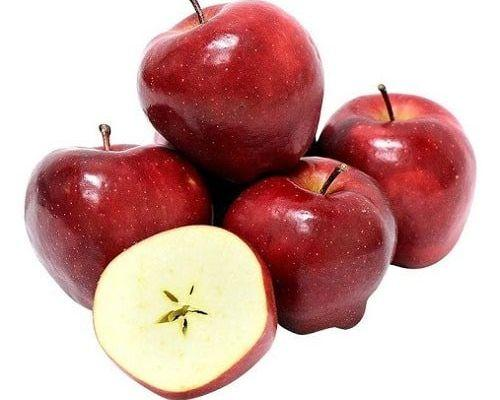apples: (18, 111, 319, 400), (236, 87, 490, 329), (118, 2, 338, 161)
